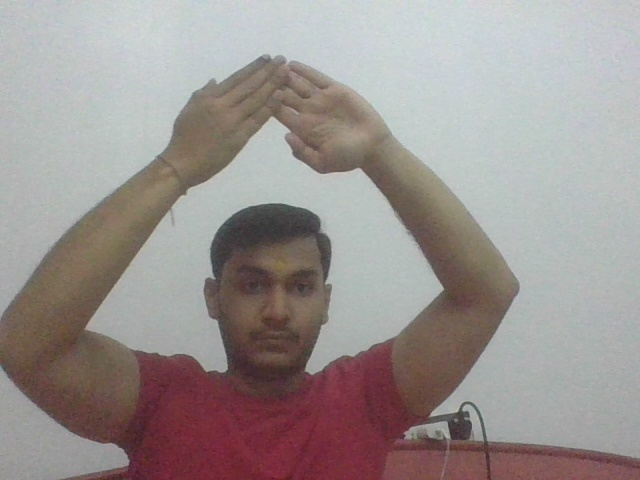H: (158, 47, 377, 174)
